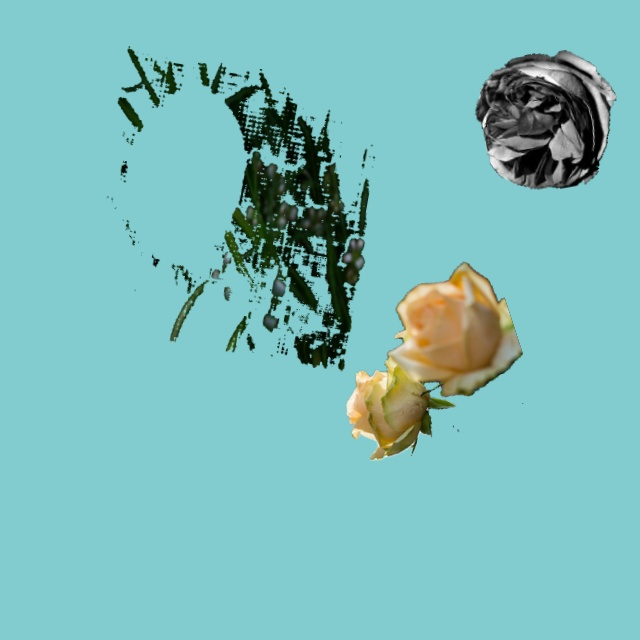dandelion: (118, 46, 374, 370)
rose: (346, 262, 522, 459), (476, 50, 616, 188)
